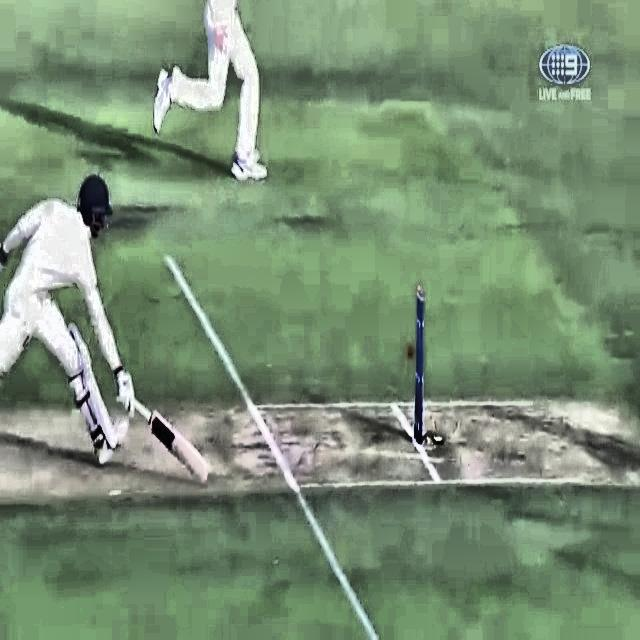Ball: (404, 345, 416, 361)
Bat: (117, 385, 215, 486)
Pitch_Line: (165, 251, 378, 640)
Undis_Wicket: (413, 287, 432, 443)
